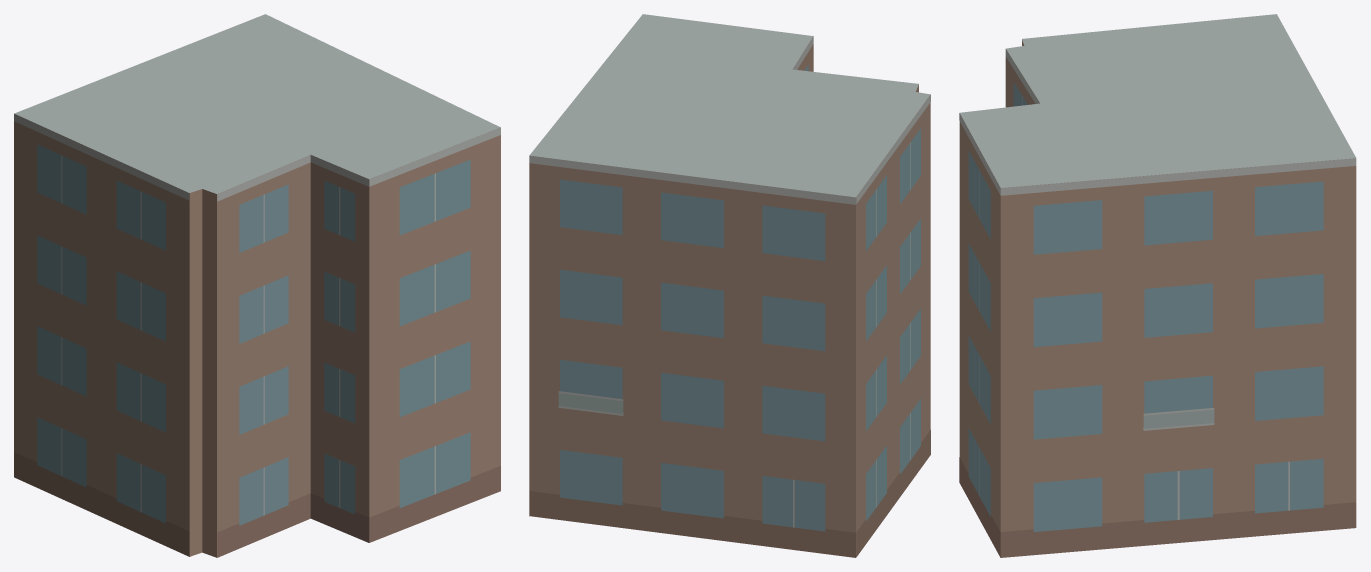
The model's file is survey-upis-32591266.glb.
3 renders of one model, left to right at view 1: azimuth 30°, elevation 25°; view 2: azimuth 150°, elevation 25°; view 3: azimuth 270°, elevation 25°, orthographic. The views are drawn at different scales.
Parts seen in each view (by area): view 1: survey-upis-32591266.tmp; view 2: survey-upis-32591266.tmp; view 3: survey-upis-32591266.tmp.
Boxes of the visible parts, left/top/right/bottom form: survey-upis-32591266.tmp: left=14, top=14, right=500, bottom=557; survey-upis-32591266.tmp: left=529, top=14, right=930, bottom=557; survey-upis-32591266.tmp: left=959, top=14, right=1356, bottom=557.
Size of the model in its own units: 11.82 by 11.7 by 11.39.
